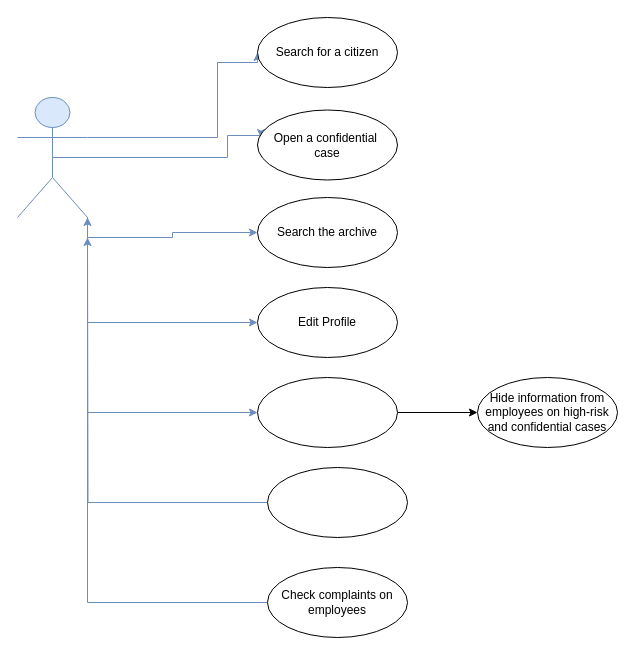
This 635x655 diagram has some shape labels left out. The shapes that lost their labels are listed below. From the top down, each one's centre as x and y in pixels, then its label:
point (52, 157): Chief Police Officer
point (327, 412): Give approval for high-risk cases or tasks
point (337, 502): Check all employees
